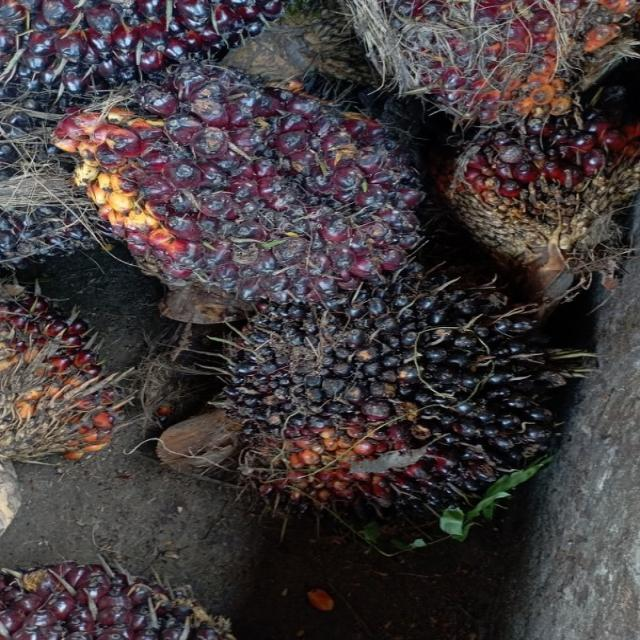fraksi 00: (222, 258, 570, 540)
fraksi 1: (64, 70, 408, 299)
